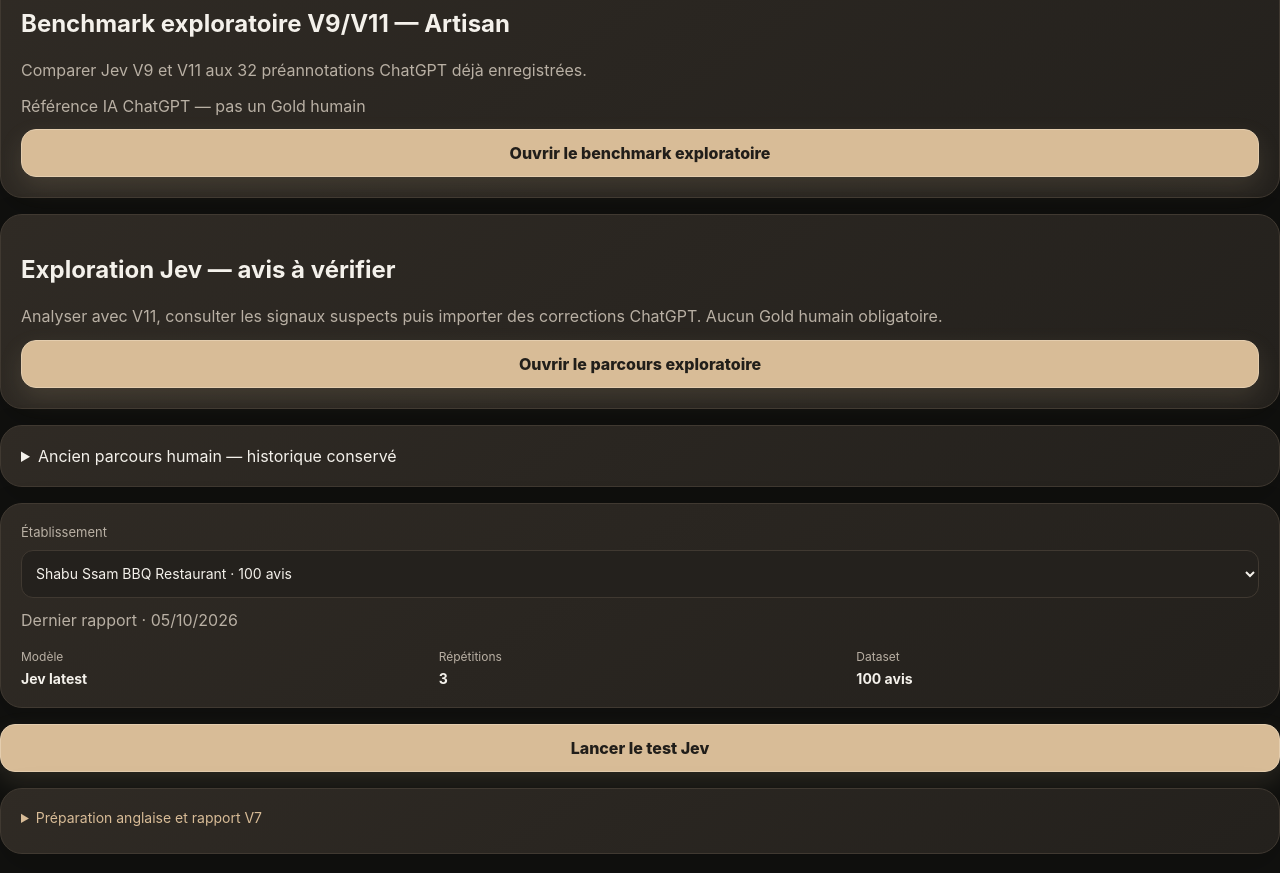
Scenario: Jev mobile page › I: configuration error has localized server-only message and no key input
(page scrolled)
Click the button "Lancer le test Jev": (640, 748) x1=0 y1=724 x2=1279 y2=772
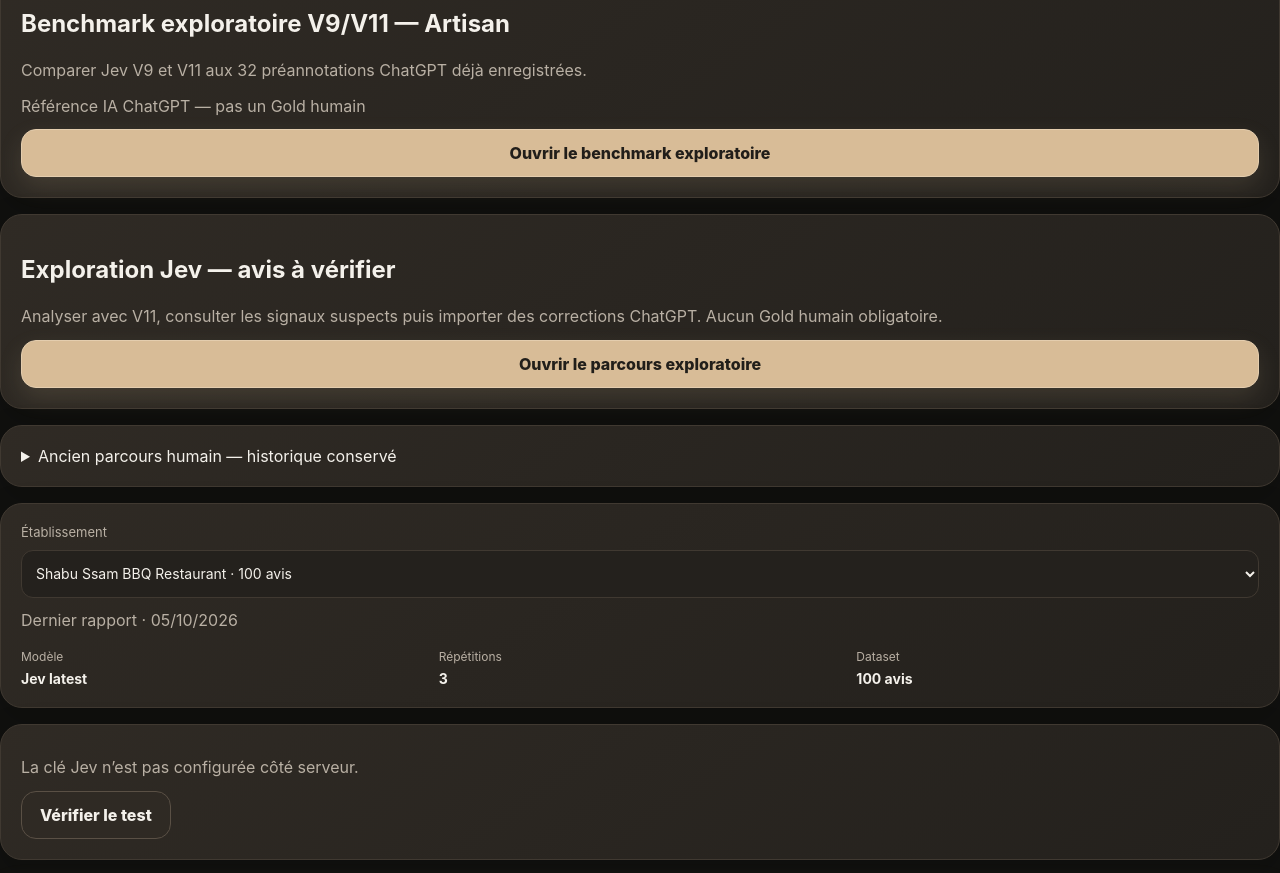
Check: the text "La clé Jev n’est pas configurée côté serveur." is shown, box x1=21 y1=757 x2=359 y2=777
